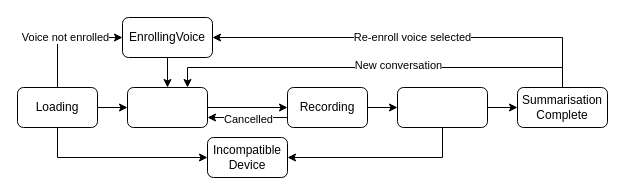
Some shapes in this 625 by 195 pixel diagram are drawn without their labels. Each missing label, with the centre of its shape:
"Generating Summarisation" goes at (442,107).
"Waiting Recording" goes at (167,107).
